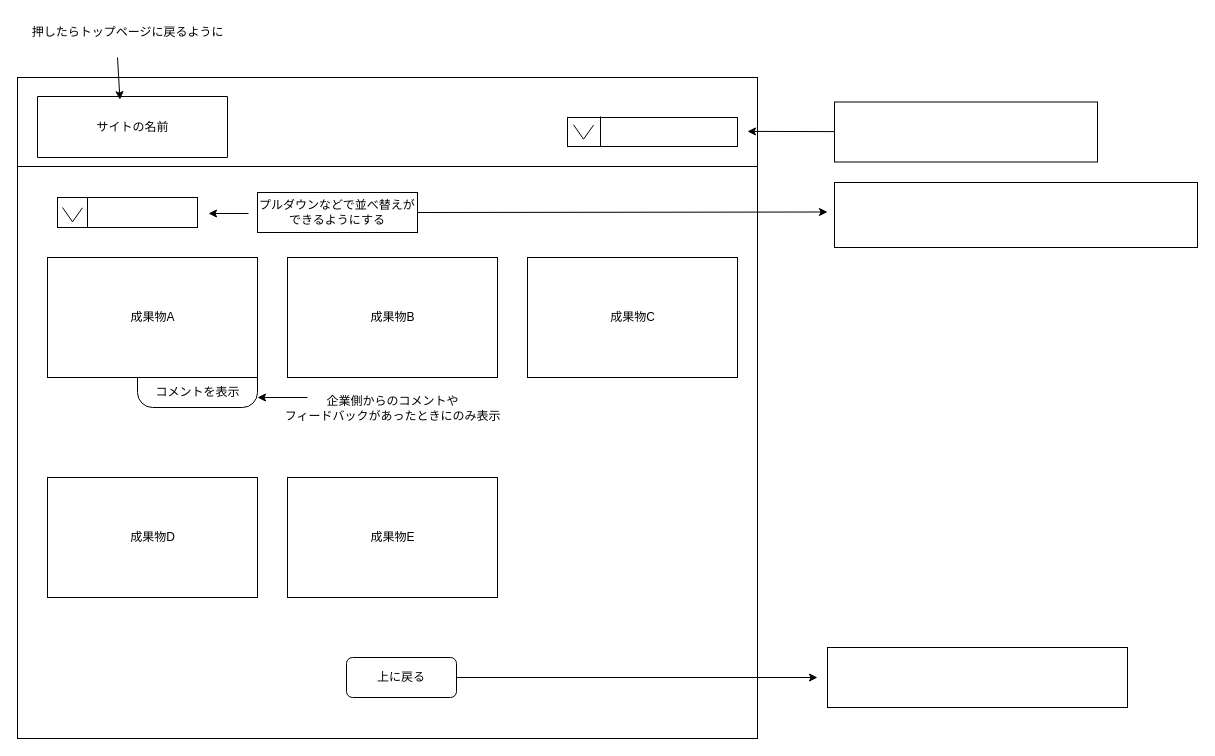
Some shapes in this 1215 by 756 pixel diagram are drawn without their labels. The centre of each missing label's shape, as x and y in pixels:
プルダウンとかにして ほかのページに飛べるようにしてもいいかも: the point at 966,131
並べ替えの種類は登録する側が登録した順番で表示されるものと 企業からコメントなどがされたもののみを表示するものに分ける: the point at 1016,215
登録した成果物が増えてきた時のために一番下に表示 押された時にページの一番上にスクロールする: the point at 977,677
登録順: the point at 127,212
